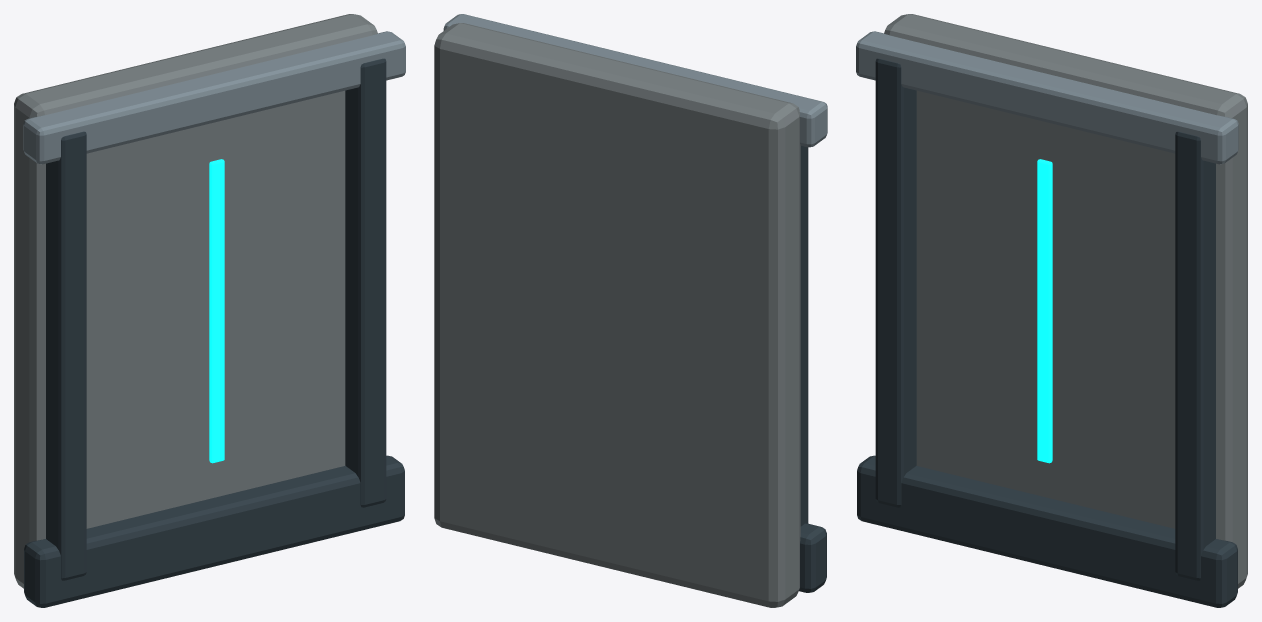
File: Wall-Module.glb
The picture shows the model from 3 angles, left to right: view 1: azimuth 30°, elevation 25°; view 2: azimuth 150°, elevation 25°; view 3: azimuth 330°, elevation 25°; orthographic projection.
Parts seen in each view (by area): view 1: Wall_StoneBody, Wall_MetalBase, Wall_VerticalFrame_0.86, Wall_TopCap, Wall_VerticalFrame_-0.86, Wall_EnergyInset; view 2: Wall_StoneBody, Wall_TopCap, Wall_VerticalFrame_-0.86, Wall_MetalBase; view 3: Wall_StoneBody, Wall_MetalBase, Wall_VerticalFrame_-0.86, Wall_TopCap, Wall_VerticalFrame_0.86, Wall_EnergyInset.
Boxes of the visible parts, left/top/right/bottom form: Wall_StoneBody: left=14, top=14, right=377, bottom=588; Wall_MetalBase: left=24, top=455, right=404, bottom=607; Wall_VerticalFrame_0.86: left=345, top=58, right=386, bottom=507; Wall_TopCap: left=23, top=31, right=405, bottom=164; Wall_VerticalFrame_-0.86: left=46, top=131, right=86, bottom=580; Wall_EnergyInset: left=209, top=159, right=224, bottom=463; Wall_StoneBody: left=434, top=23, right=800, bottom=607; Wall_TopCap: left=443, top=14, right=827, bottom=147; Wall_VerticalFrame_-0.86: left=800, top=146, right=808, bottom=526; Wall_MetalBase: left=799, top=523, right=826, bottom=592; Wall_StoneBody: left=884, top=14, right=1247, bottom=588; Wall_MetalBase: left=857, top=455, right=1237, bottom=607; Wall_VerticalFrame_-0.86: left=875, top=58, right=916, bottom=507; Wall_TopCap: left=856, top=31, right=1238, bottom=164; Wall_VerticalFrame_0.86: left=1175, top=131, right=1215, bottom=580; Wall_EnergyInset: left=1037, top=159, right=1052, bottom=463.
Bounding box in the file's own units: 2.12 × 2.7 × 0.41.
